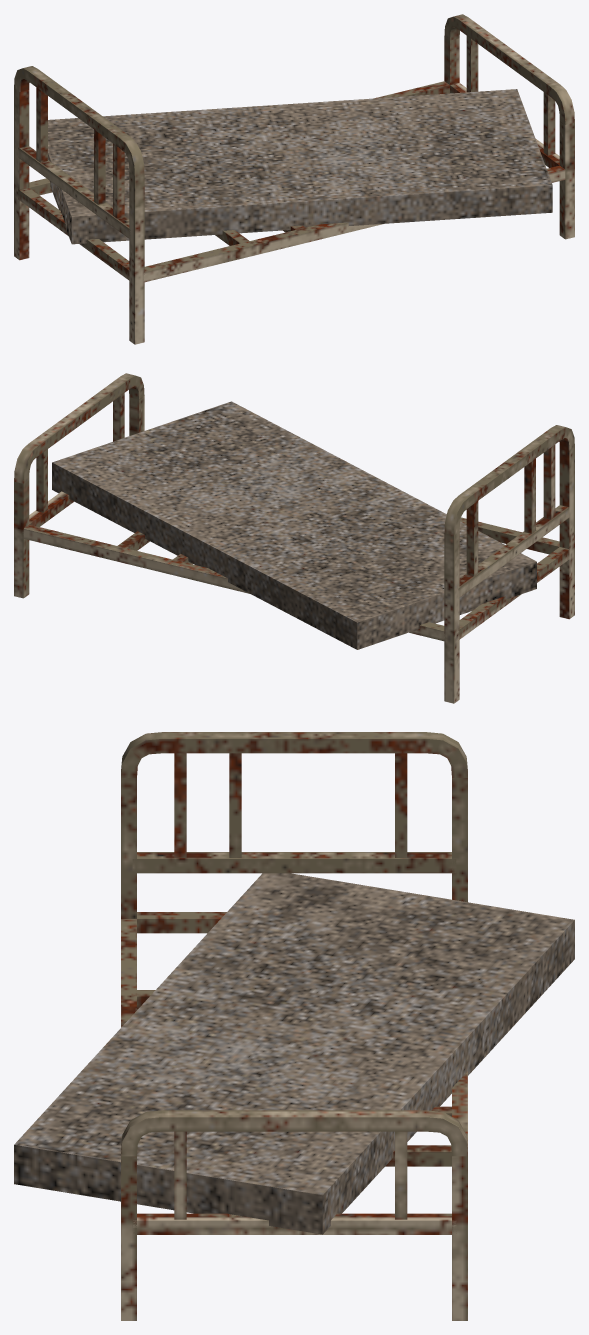
Rendered from bed_messy.fbx.
3 views of the same model, one above another, from view 1: azimuth 30°, elevation 25°; view 2: azimuth 150°, elevation 25°; view 3: azimuth 270°, elevation 25° (orthographic). The views are drawn at different scales.
Parts seen in each view (by area): view 1: bed_messy; view 2: bed_messy; view 3: bed_messy.
Part boxes in pixels (<box>): bed_messy: <box>14,14,574,344</box>; bed_messy: <box>14,373,574,703</box>; bed_messy: <box>14,732,574,1320</box>.
Bounding box in the file's own units: 210 × 84.18 × 152.
1 material, 1 textured.
